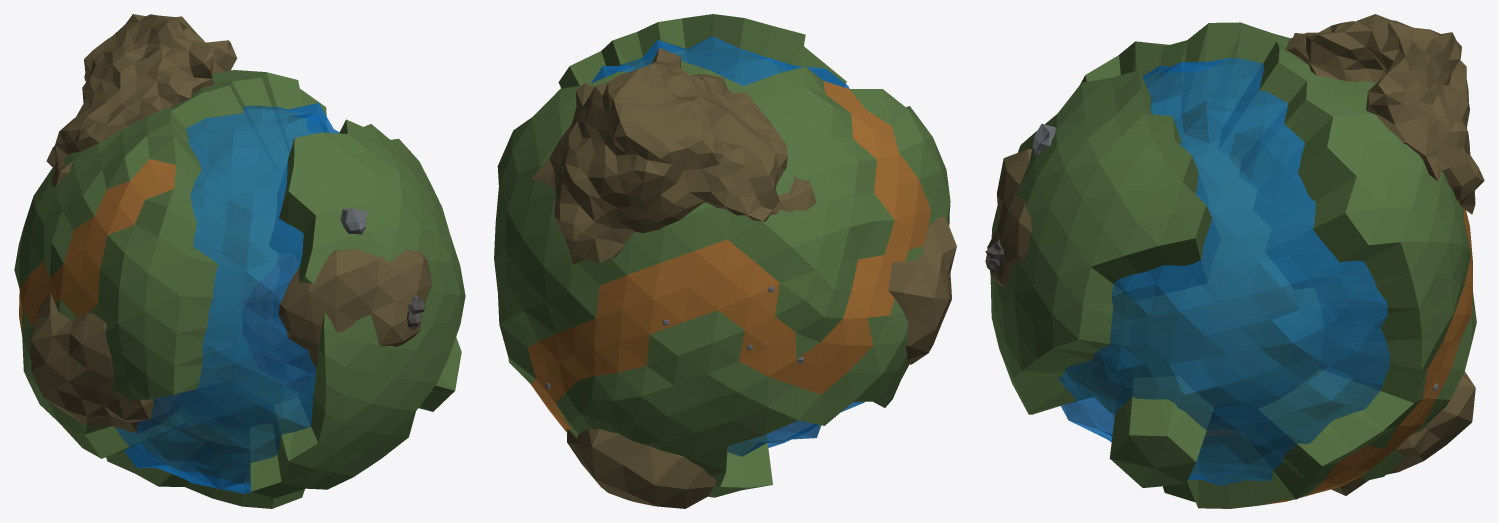
Rendered from ShepherdPlanet.fbx.
The picture shows the model from 3 angles, left to right: view 1: azimuth 30°, elevation 25°; view 2: azimuth 150°, elevation 25°; view 3: azimuth 270°, elevation 25°; orthographic projection. The views are drawn at different scales.
Parts seen in each view (by area): view 1: Surface, Water, Mountains, Rocks; view 2: Surface, Mountains, Water; view 3: Surface, Water, Mountains, Rocks.
Boxes of the visible parts, x1,y1,x2,y2 form: Surface: (14,70,465,508); Water: (115,103,339,493); Mountains: (31,14,431,433); Rocks: (340,208,424,330); Surface: (494,14,950,497); Mountains: (532,48,956,508); Water: (591,36,864,456); Surface: (990,22,1476,508); Water: (1058,57,1390,486); Mountains: (987,14,1484,495); Rocks: (985,123,1438,391).
Bounding box in the file's own units: 3673 × 3756 × 3636.
